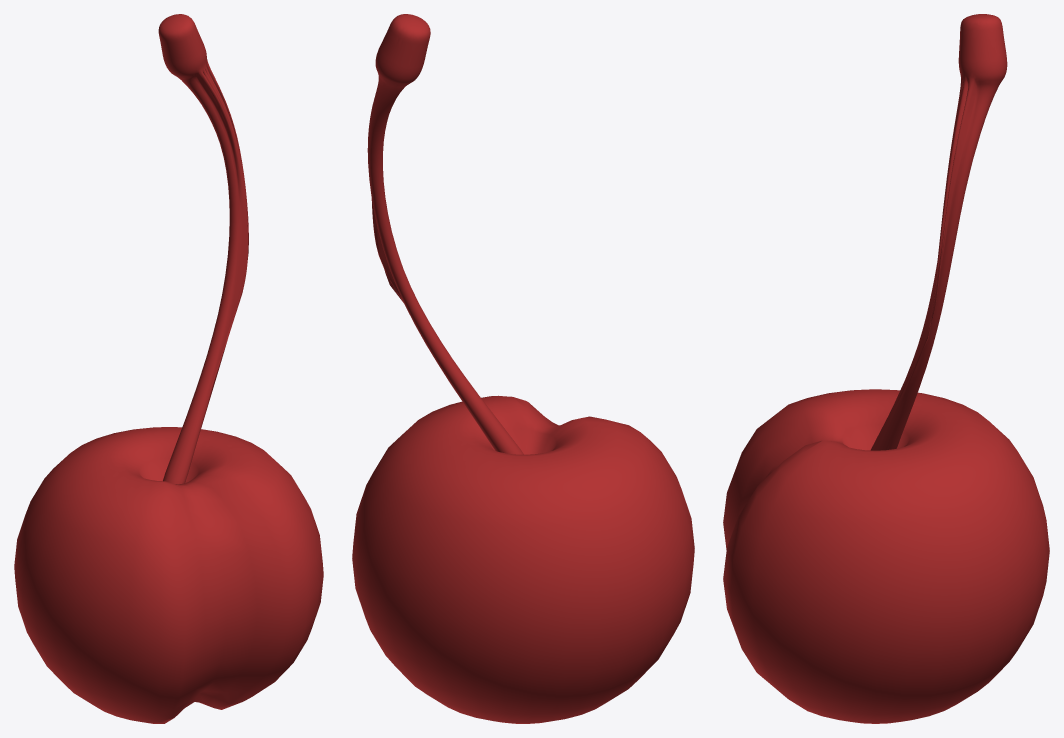
File: cherry1.glb
The picture shows the model from 3 angles, left to right: view 1: azimuth 30°, elevation 25°; view 2: azimuth 150°, elevation 25°; view 3: azimuth 270°, elevation 25°; orthographic projection. The views are drawn at different scales.
Parts seen in each view (by area): view 1: Sphere, Cylinder; view 2: Sphere, Cylinder; view 3: Sphere, Cylinder.
Part boxes in pixels (x1,y1,x2,y2): Sphere: (14, 427, 323, 723); Cylinder: (158, 14, 248, 484); Sphere: (352, 395, 694, 723); Cylinder: (367, 14, 523, 454); Sphere: (723, 389, 1049, 723); Cylinder: (870, 14, 1007, 450).
Bounding box in the file's own units: 2 × 4.51 × 1.87.
